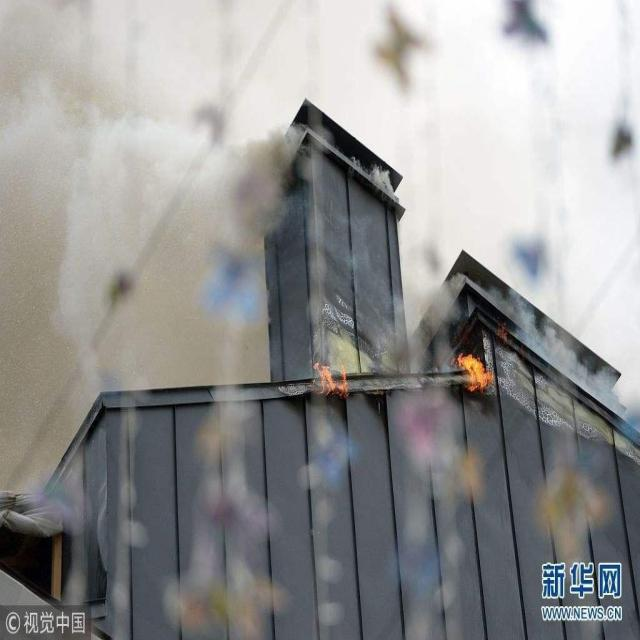fire: (446, 323, 498, 406), (309, 353, 352, 398)
